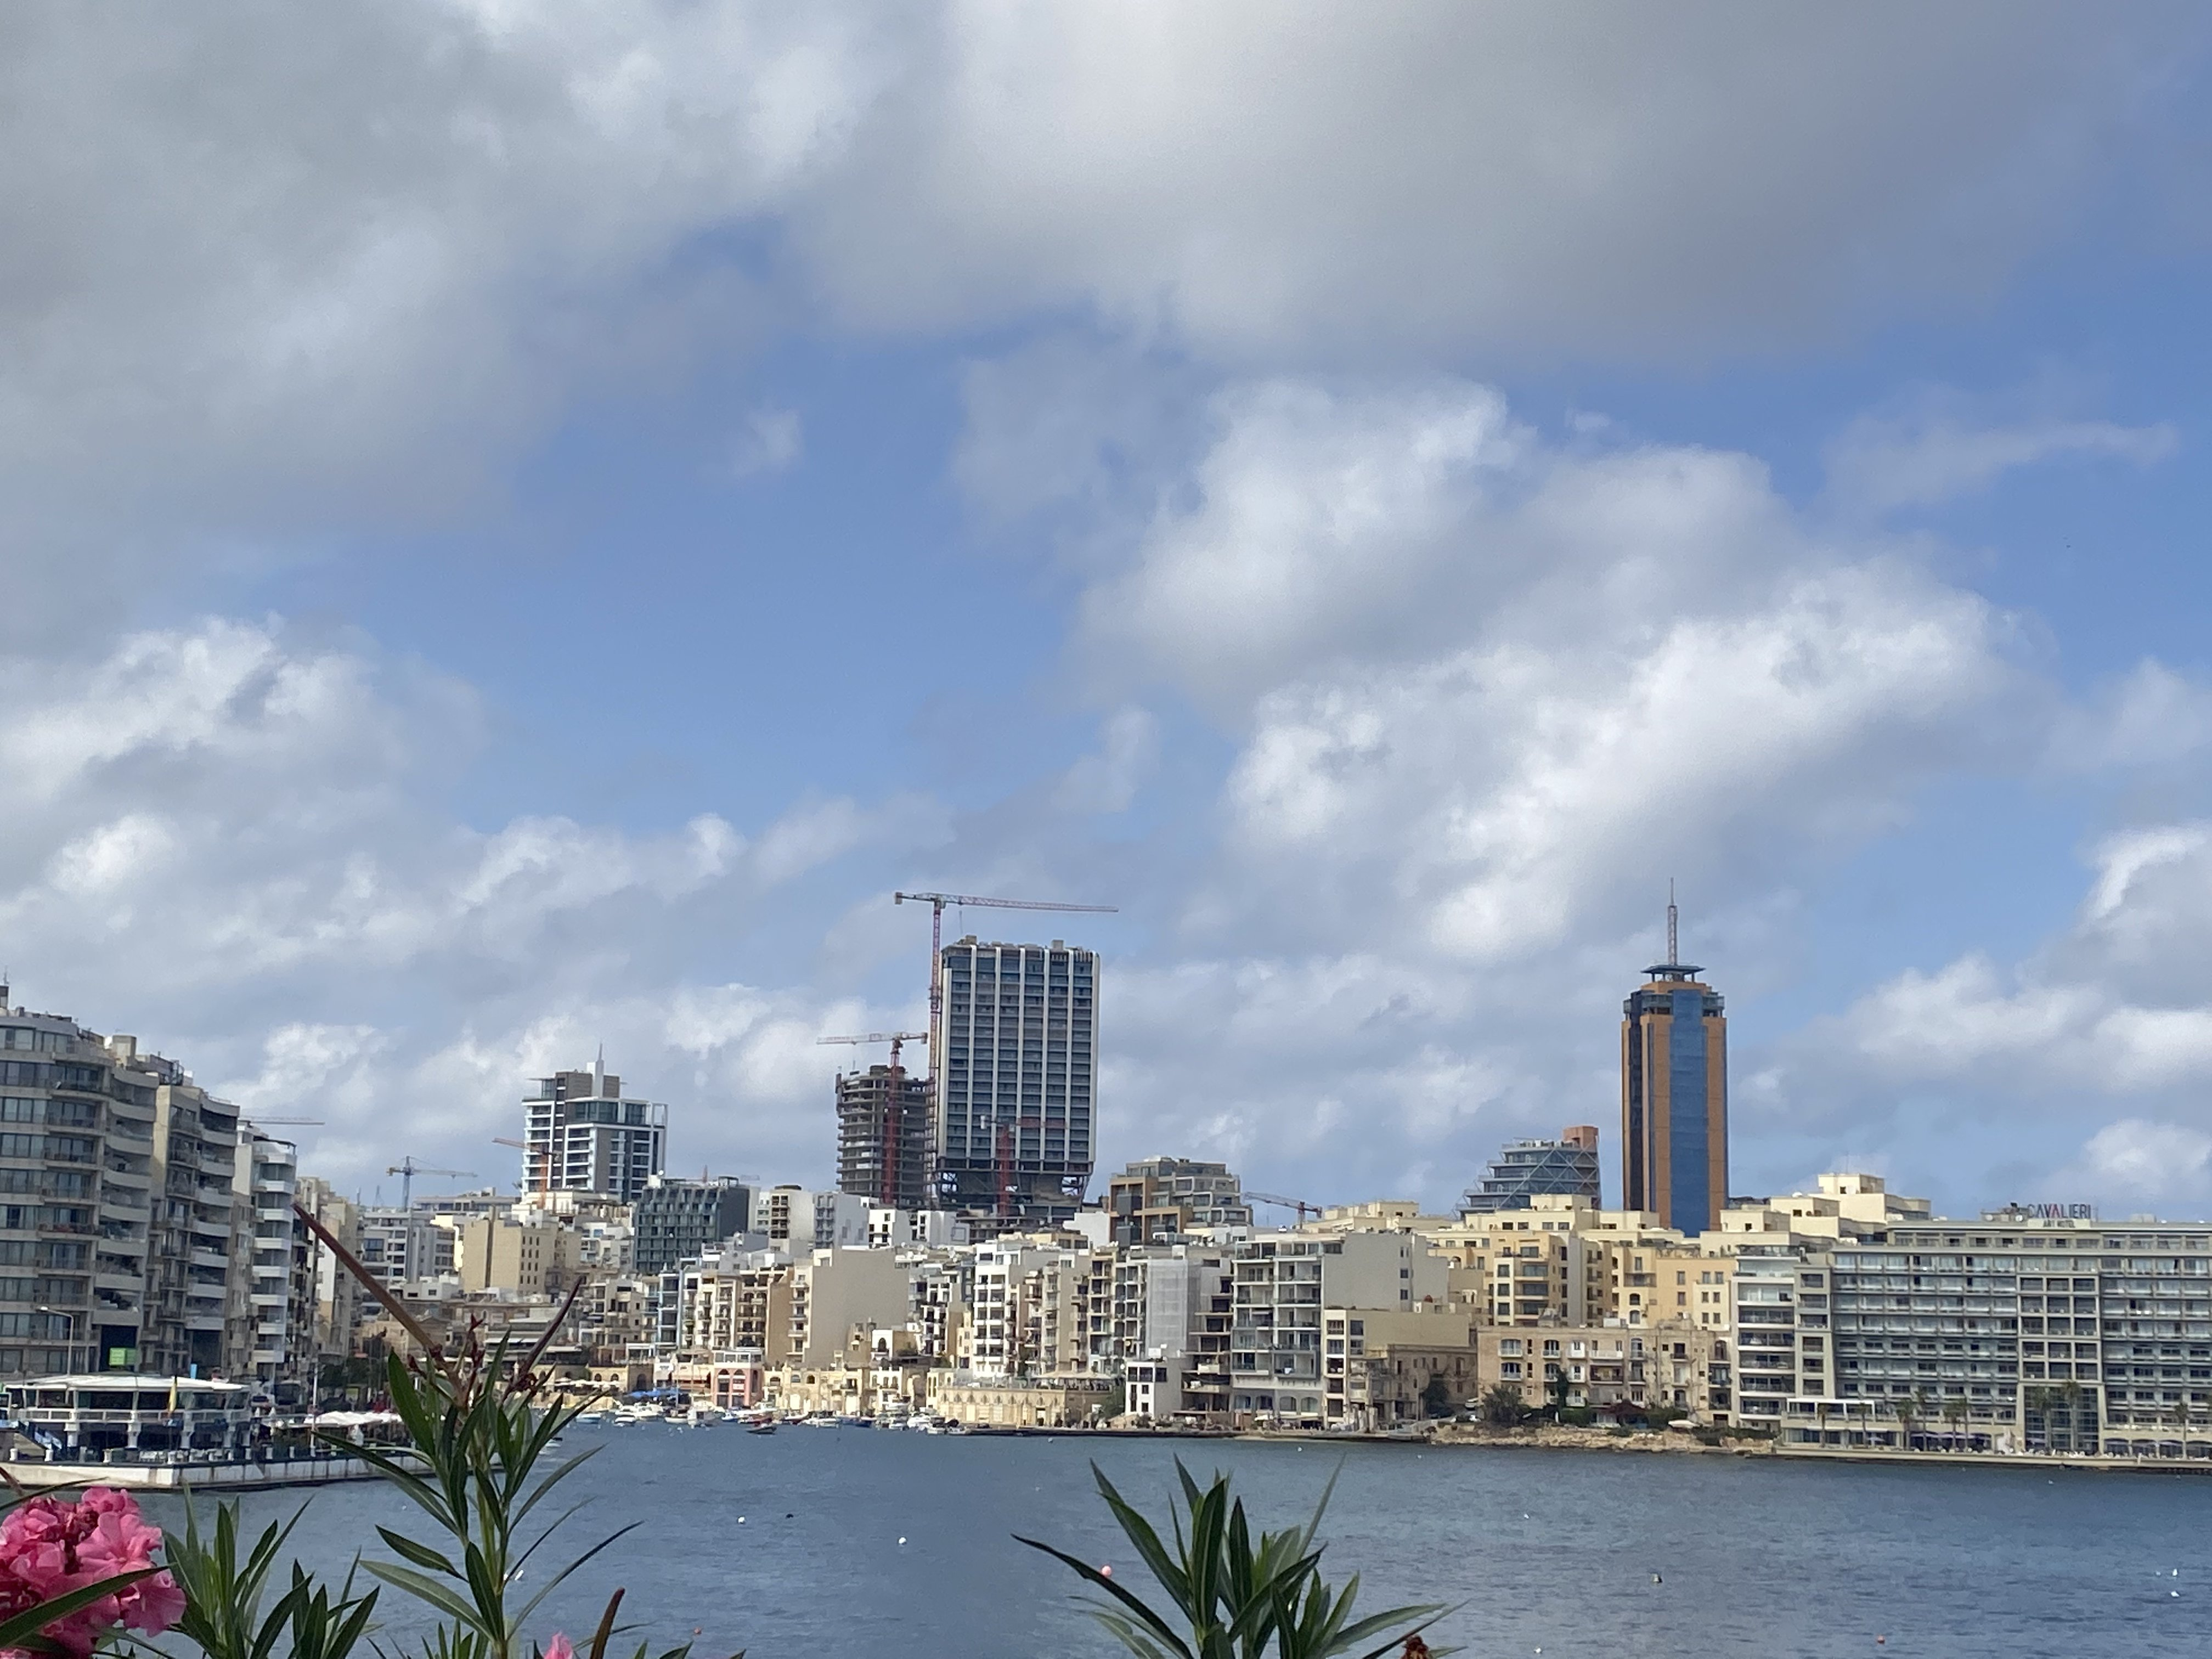crane: (883, 877, 1125, 939), (792, 1016, 937, 1061)
